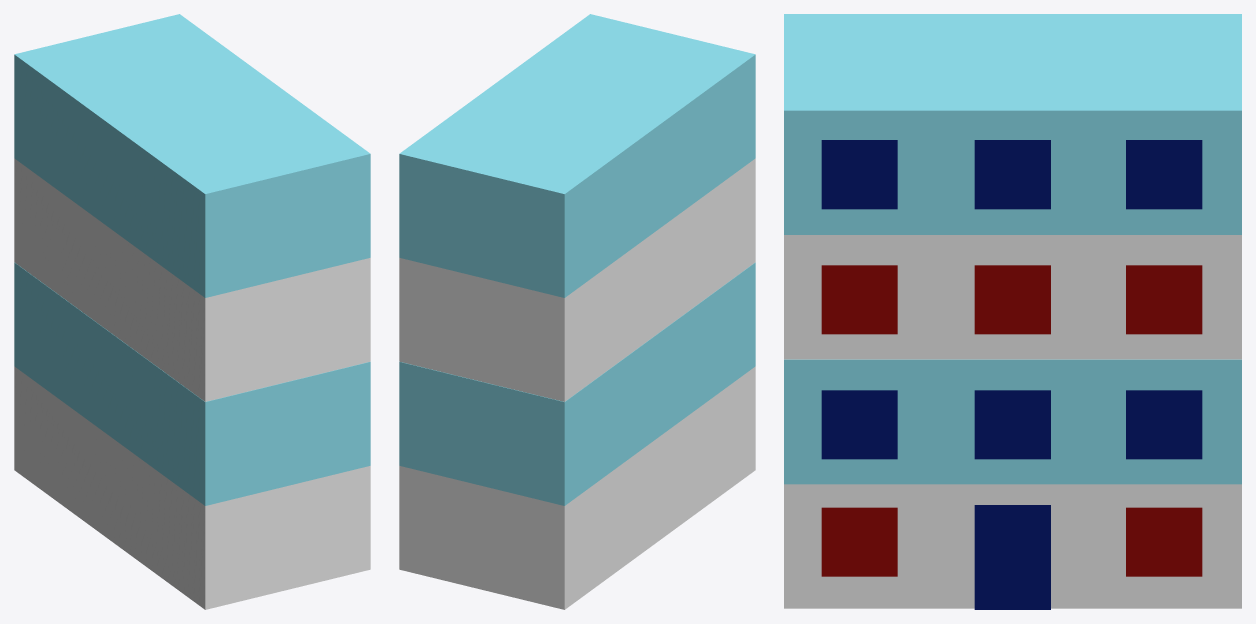
Rendered from building 1.fbx.
3 views of the same model, side by side, from view 1: azimuth 30°, elevation 25°; view 2: azimuth 150°, elevation 25°; view 3: azimuth 270°, elevation 25° (orthographic). The views are drawn at different scales.
Visible parts, largest first — view 1: Cube.003, Cube.001, Cube.002, Cube; view 2: Cube.003, Cube.001, Cube.002, Cube; view 3: Cube.003, Cube.001, Cube.002, Cube, Plane.011, Plane, Plane.001, Plane.002, Plane.003, Plane.004, Plane.005, Plane.006 (+4 smaller).
Boxes of the visible parts, x1,y1,x2,y2 form: Cube.003: [14, 14, 370, 297]; Cube.001: [14, 262, 370, 505]; Cube.002: [14, 158, 370, 401]; Cube: [14, 366, 370, 609]; Cube.003: [399, 14, 755, 297]; Cube.001: [399, 262, 755, 505]; Cube.002: [399, 158, 755, 401]; Cube: [399, 366, 755, 609]; Cube.003: [784, 14, 1241, 234]; Cube.001: [784, 359, 1241, 484]; Cube.002: [784, 235, 1241, 359]; Cube: [784, 484, 1241, 608]; Plane.011: [974, 505, 1050, 609]; Plane: [821, 140, 897, 209]; Plane.001: [974, 140, 1050, 209]; Plane.002: [1126, 140, 1202, 209]; Plane.003: [821, 265, 897, 334]; Plane.004: [974, 265, 1050, 334]; Plane.005: [1126, 265, 1202, 334]; Plane.006: [821, 390, 897, 459].
Size of the model in its own units: 602 by 1444 by 1200.
